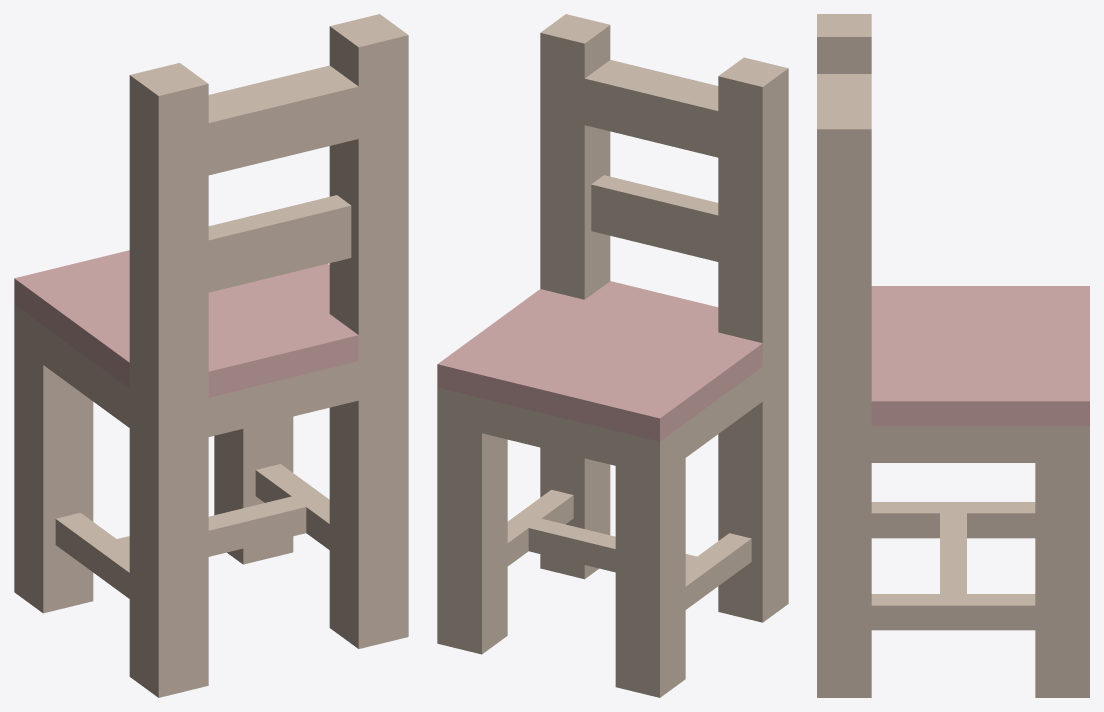
Rendered from furn_chairCushion.glb.
3 views of the same model, side by side, from view 1: azimuth 30°, elevation 25°; view 2: azimuth 150°, elevation 25°; view 3: azimuth 270°, elevation 25° (orthographic). The views are drawn at different scales.
Size of the model in its own units: 0.4 by 0.92 by 0.4.
